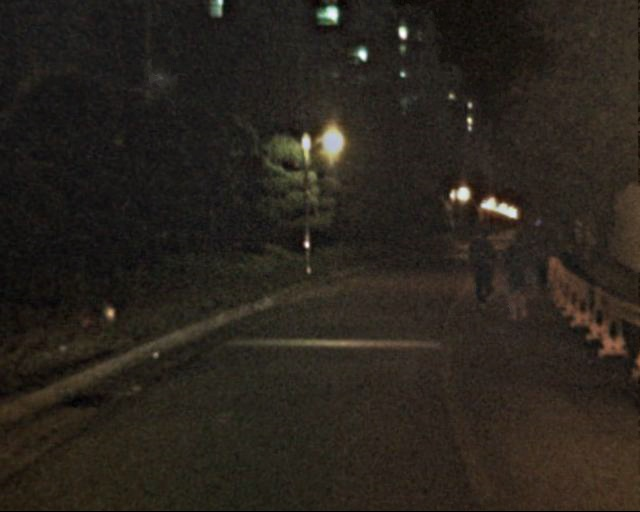person: (460, 225, 501, 324), (495, 231, 534, 325), (514, 222, 542, 290), (528, 228, 555, 294)
